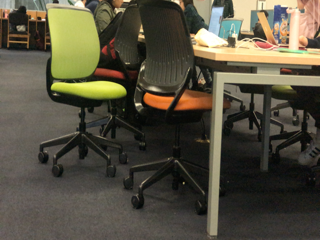Obstacle: (207, 46, 318, 235), (29, 3, 124, 180), (126, 4, 208, 209)
